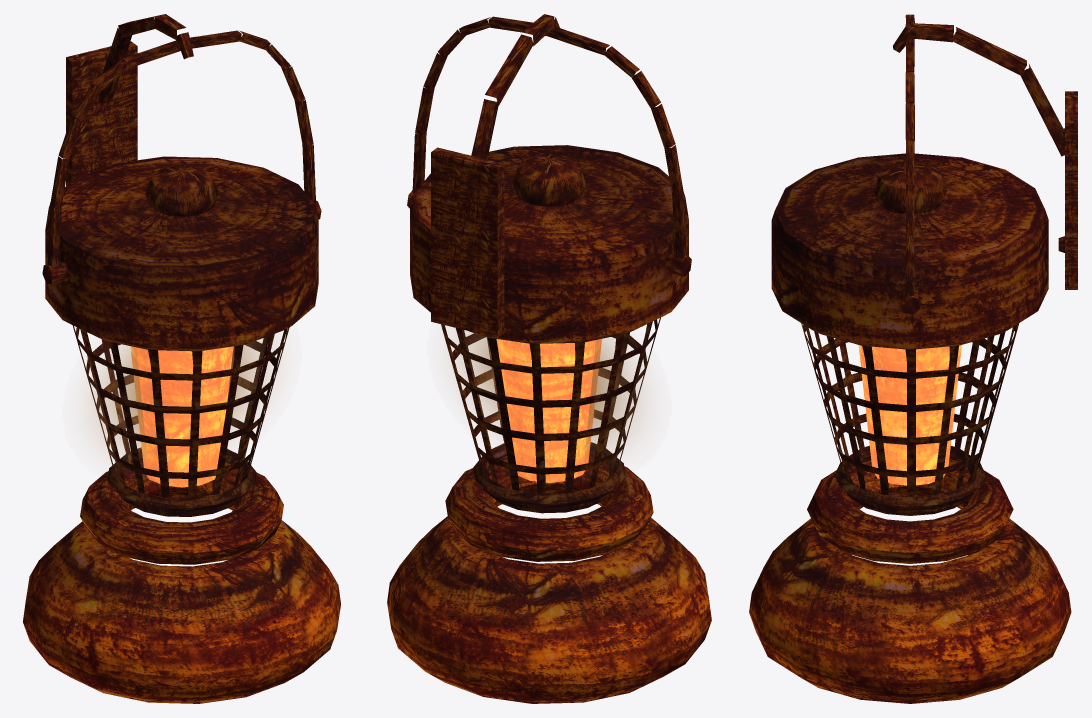
File: mm7_deco_torch02.glb
3 views of the same model, side by side, from view 1: azimuth 30°, elevation 25°; view 2: azimuth 150°, elevation 25°; view 3: azimuth 270°, elevation 25° (orthographic). The views are drawn at different scales.
Visible parts, largest first — view 1: Lantern; view 2: Lantern; view 3: Lantern.
Boxes of the visible parts, box(x1,y1,x2,y2) form: Lantern: box(23, 14, 340, 703); Lantern: box(387, 14, 711, 703); Lantern: box(749, 14, 1077, 703).
Bounding box in the file's own units: 0.8813 × 1.59 × 0.7442.
4 materials, 4 textured.
